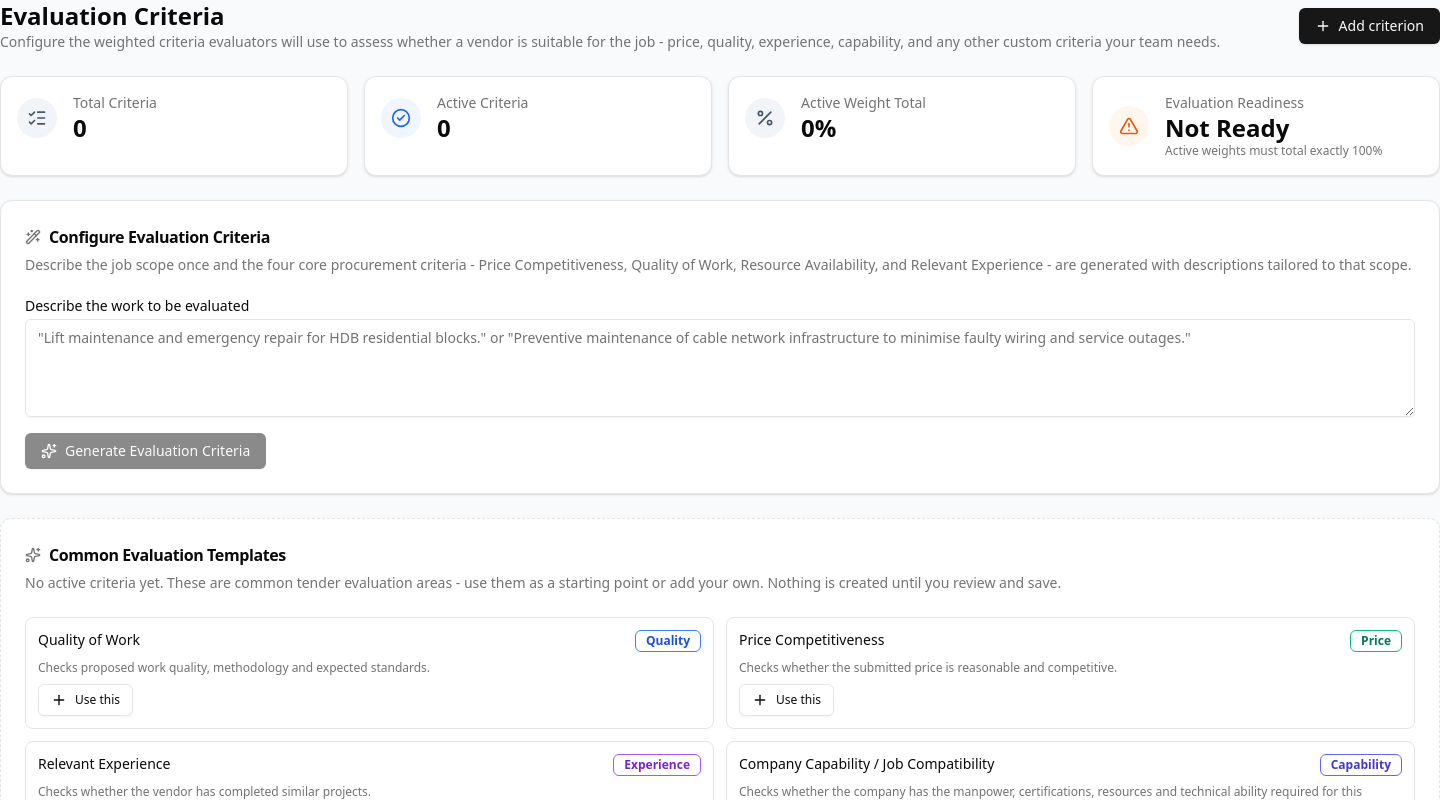
EvaluationCriteriaPage (Jerrold - Scope B) › creates a new criterion from a quick-add suggestion and shows a success message
Click the 2nd button "Use this": x=786, y=700 [739,684,834,716]
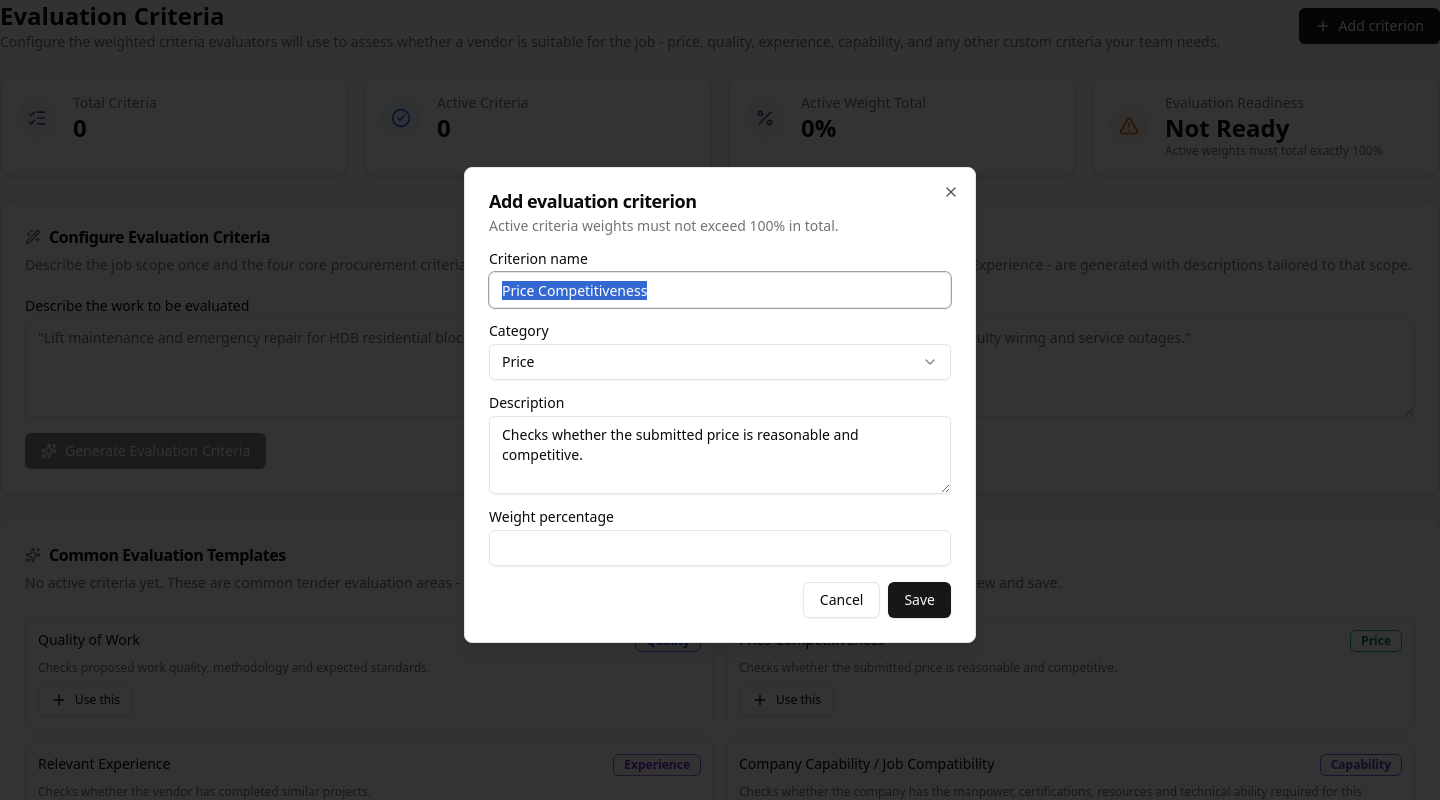
Now the heading "Add evaluation criterion" is shown, box [489,189,697,213]
In the number field labelled "Weight percentage": x=720, y=548 [489,530,951,566], type "60"
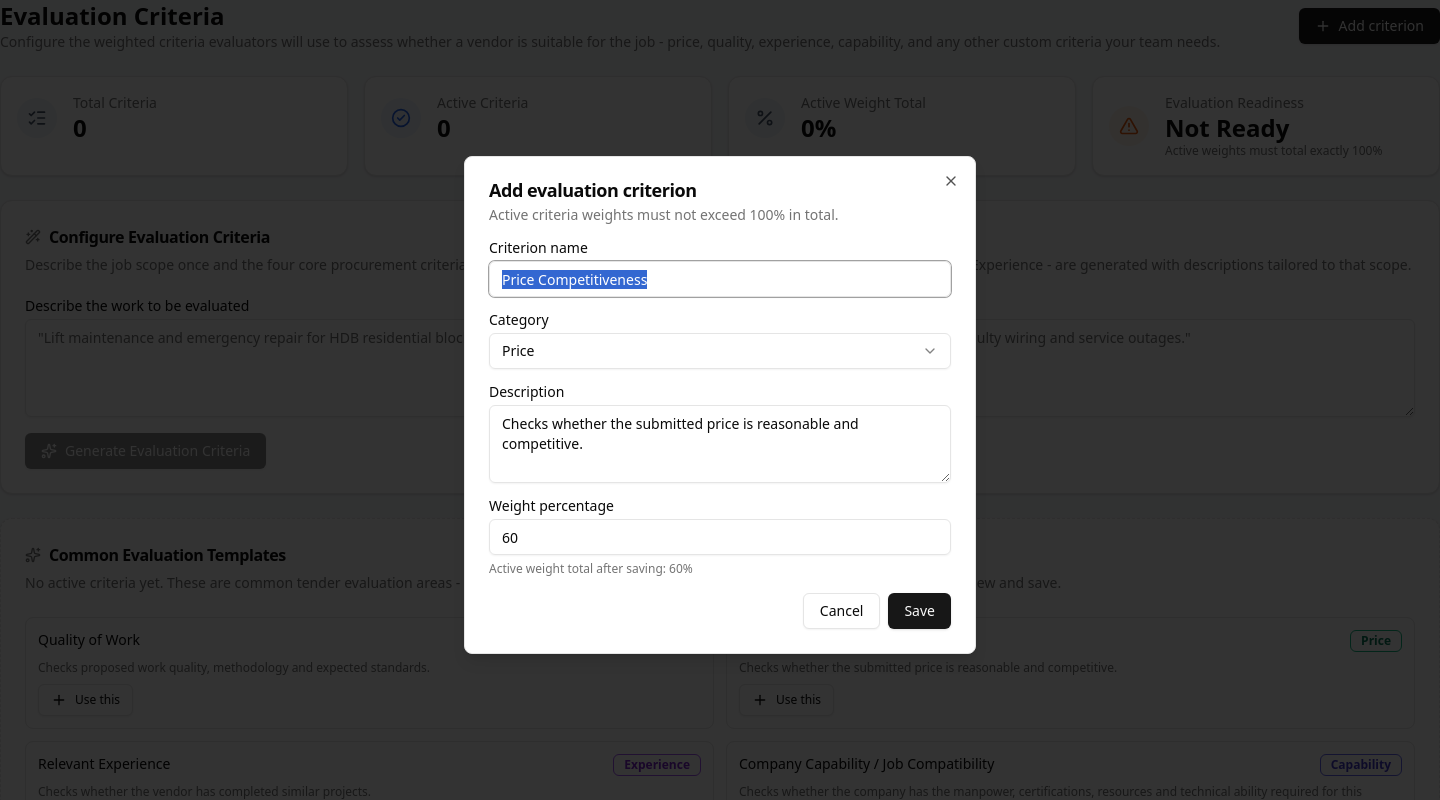
Click the button "Save": x=920, y=611 [888,593,951,629]
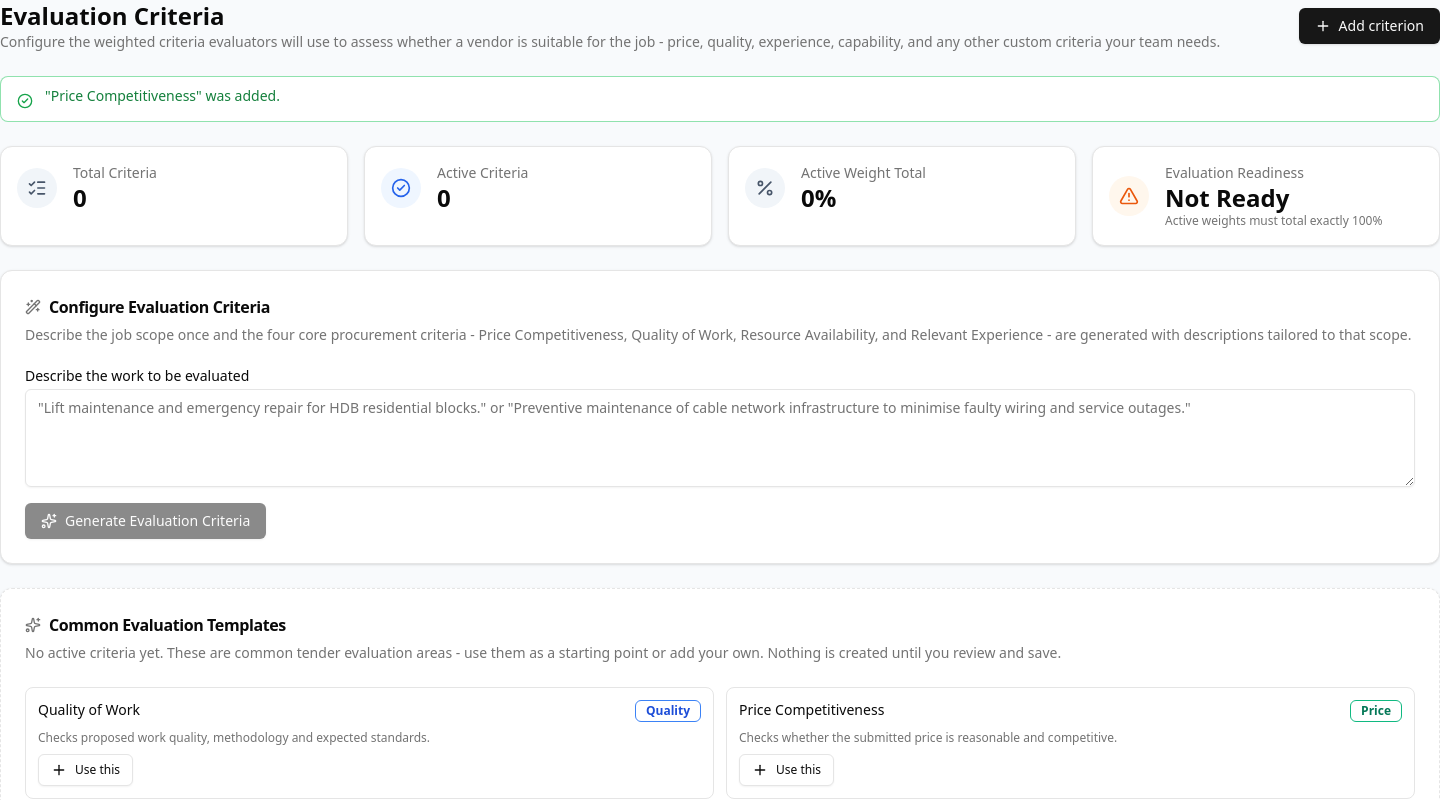
Now the text "\"Price Competitiveness\" was added." is shown, box [45,86,280,105]
Now the heading "Add evaluation criterion" is gone
